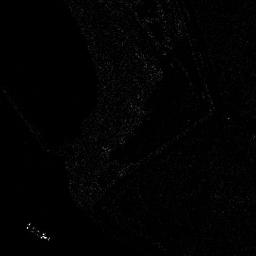ship: (25, 220, 51, 242)
